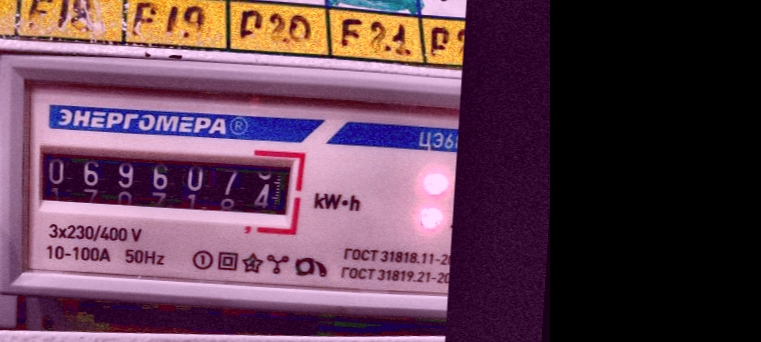0: (185, 163, 206, 194), (46, 157, 66, 186)
4: (253, 182, 271, 211)
6: (150, 162, 171, 193), (81, 158, 102, 187)
7: (221, 167, 239, 198)
9: (116, 161, 135, 190)
screen: (22, 128, 312, 235)
